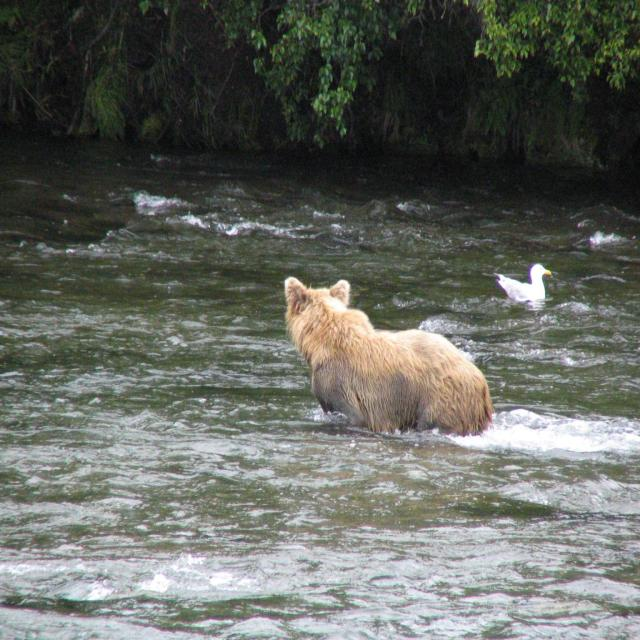bear face: (283, 275, 488, 435)
